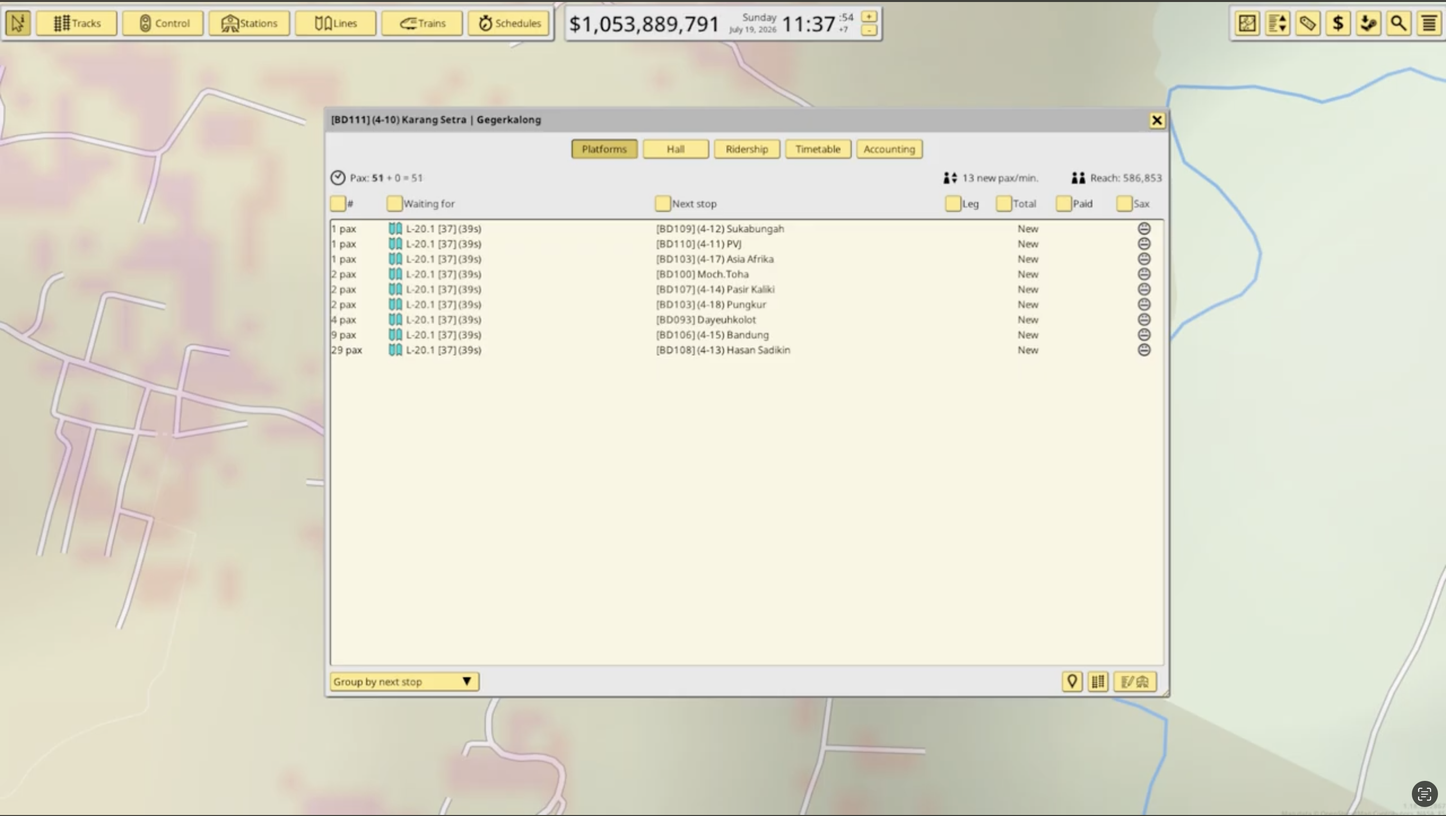passenger_increase: (331, 346, 363, 356), (332, 239, 356, 251), (331, 330, 357, 341), (331, 270, 356, 281), (332, 285, 357, 296), (332, 255, 356, 266), (332, 300, 356, 311), (331, 316, 356, 326), (332, 225, 356, 235)
station_id: (656, 224, 695, 235), (656, 254, 695, 265), (656, 269, 695, 280), (656, 299, 694, 310), (657, 330, 695, 341), (656, 240, 695, 250), (656, 285, 695, 295), (656, 315, 695, 325), (657, 346, 695, 355)
station_name: (726, 224, 784, 235), (697, 314, 757, 324), (727, 346, 791, 355), (726, 330, 769, 342), (697, 269, 748, 279), (726, 299, 767, 310), (726, 285, 776, 294), (727, 254, 775, 263), (726, 240, 742, 249)
station_numbering: (697, 224, 725, 235), (697, 285, 725, 295), (697, 300, 725, 310), (697, 255, 724, 265), (696, 331, 725, 340), (697, 240, 725, 249), (697, 346, 725, 355)
time: (782, 12, 856, 33)
